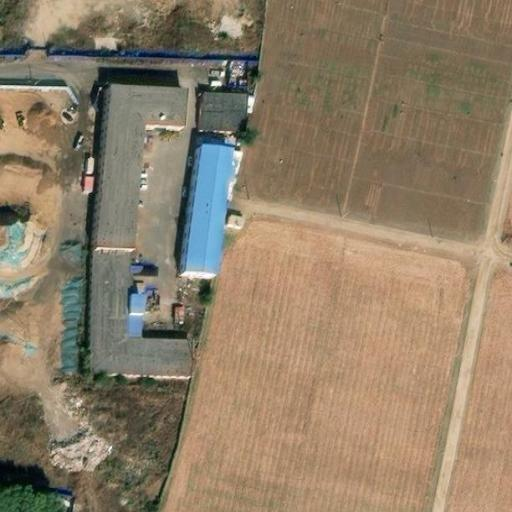building: (96, 83, 189, 250), (87, 247, 194, 378), (182, 148, 229, 279), (196, 87, 247, 137), (125, 294, 150, 339)
